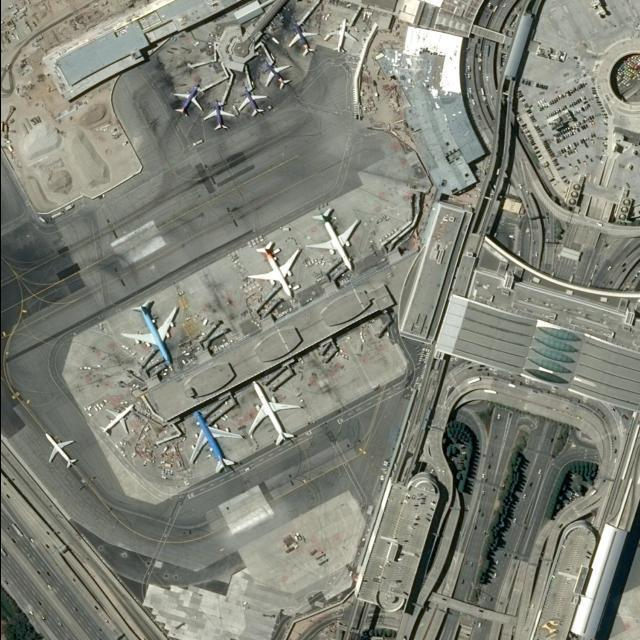Aircraft: (121, 300, 179, 369), (306, 208, 363, 272), (189, 410, 242, 476), (247, 382, 299, 446), (247, 243, 303, 301), (44, 433, 78, 470), (99, 405, 136, 436), (326, 20, 358, 54), (288, 22, 317, 59), (205, 100, 235, 134), (172, 85, 202, 119), (238, 86, 268, 119), (262, 62, 292, 90)
